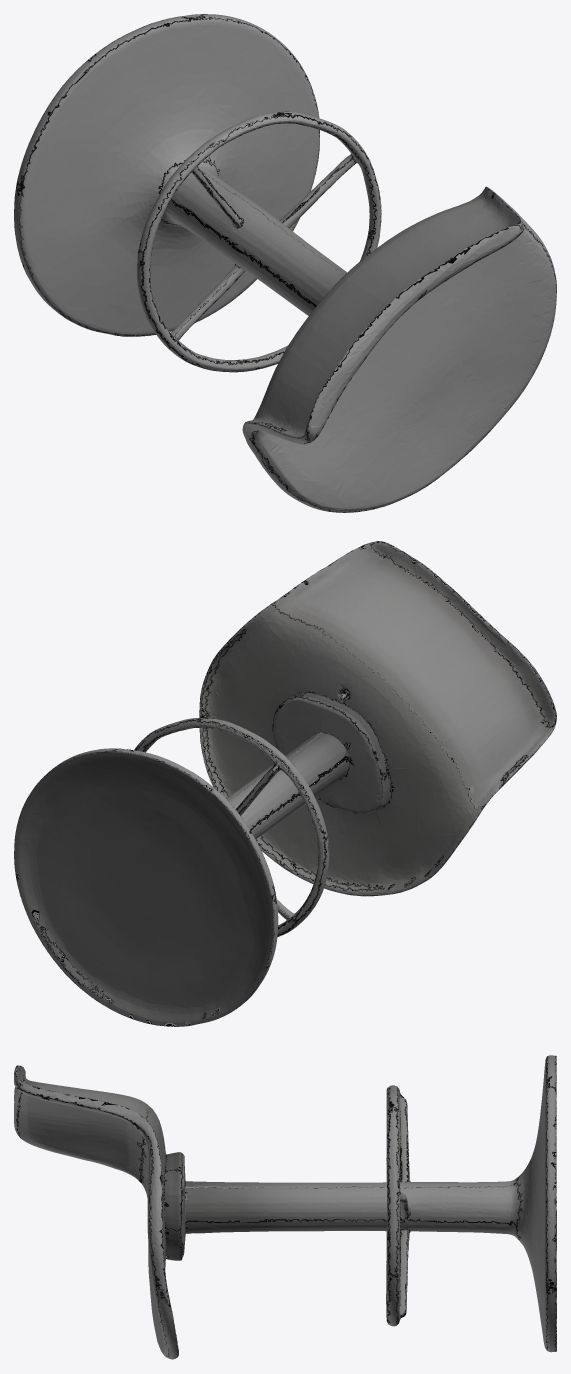
3 views of the same model, one above another, from view 1: azimuth 30°, elevation 25°; view 2: azimuth 150°, elevation 25°; view 3: azimuth 270°, elevation 25° (orthographic). The views are drawn at different scales.
Bounding box in the file's own units: 0.5179 × 0.4977 × 0.8458.
1 material, 1 textured.
